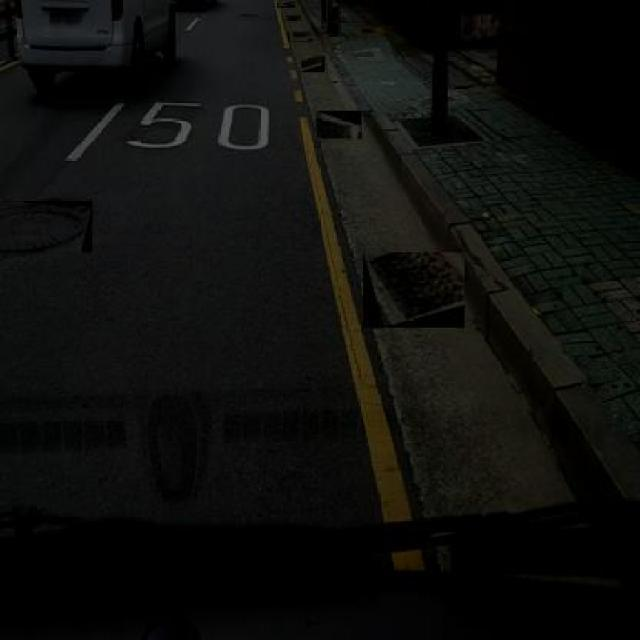Manhole: (363, 252, 465, 328), (0, 199, 92, 253), (316, 110, 362, 138), (302, 56, 324, 72), (288, 29, 312, 42), (276, 2, 296, 8), (288, 15, 298, 20)
